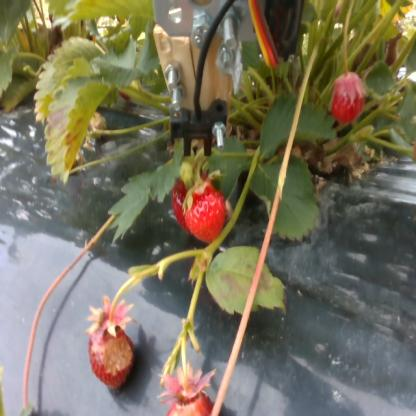ripe: (86, 319, 138, 393), (186, 174, 228, 245), (169, 166, 201, 234), (333, 70, 362, 120), (166, 391, 216, 416)
